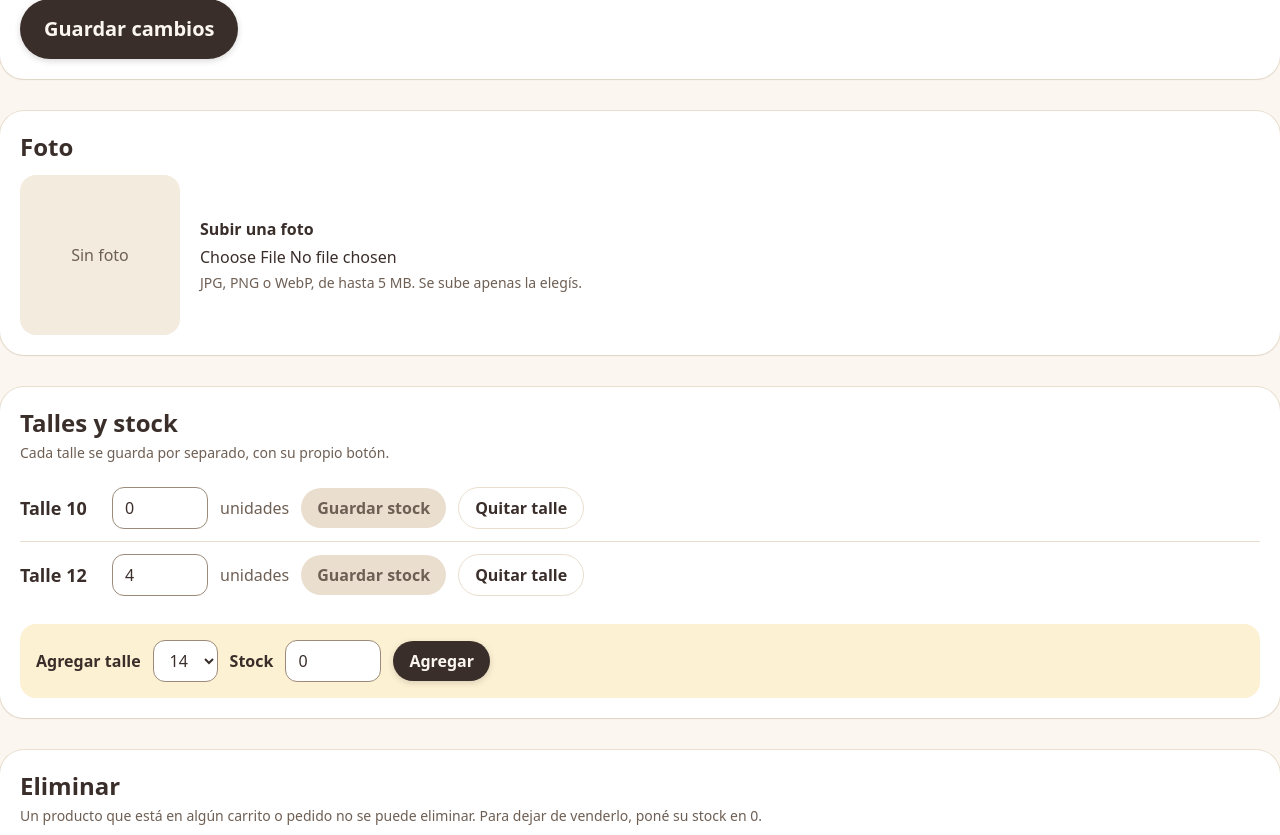
Test case: Editar producto › si hubo una venta mientras se editaba, avisa y muestra el stock real
(page scrolled)
Step 1. Clear the field labelled "Talle 12" → (160, 575), box [112,554,208,596]
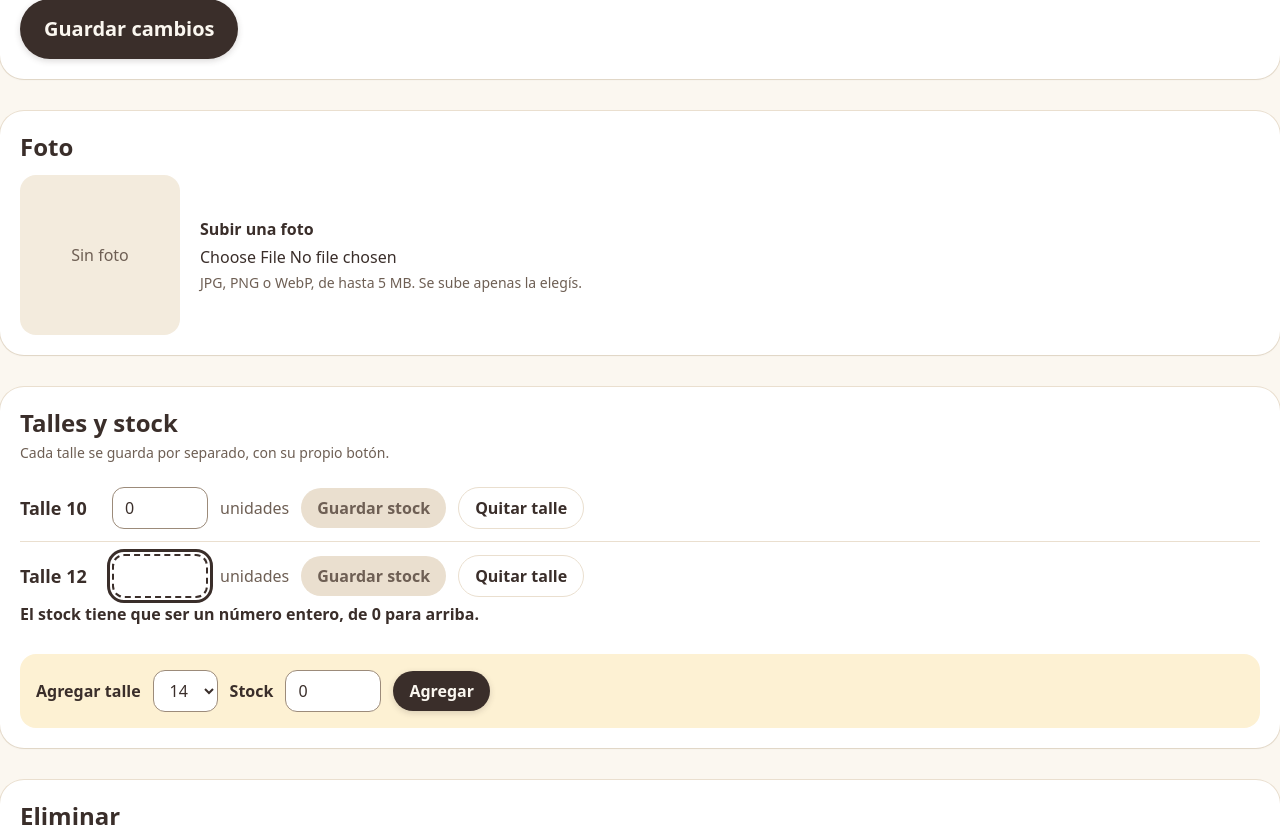
Step 2. Type "9" into the field labelled "Talle 12" → (160, 576), box [112,554,208,598]
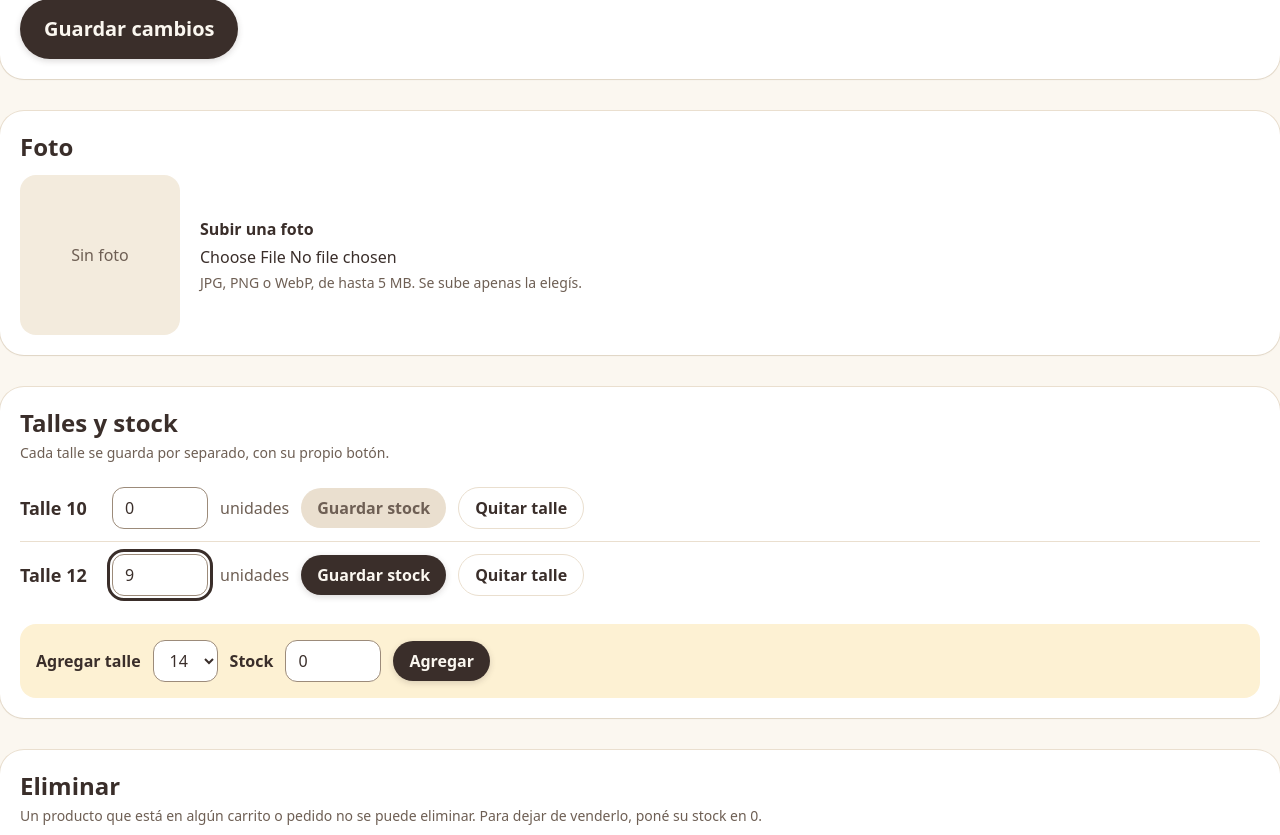
Step 3. Click the button "Guardar stock" in the row of "12" → (374, 575), box [301,555,446,595]
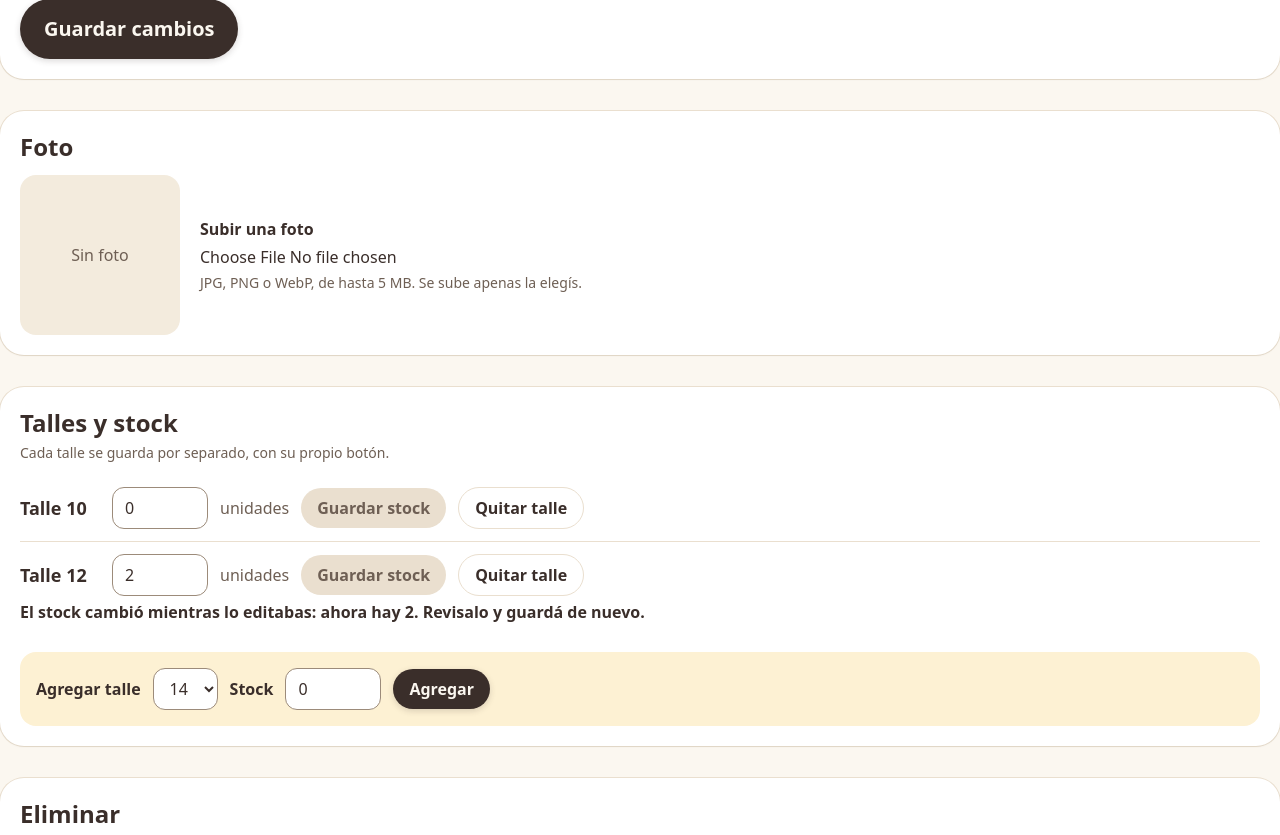
Expected: the message reads "El stock cambió mientras lo editabas: ahora hay 2. Revisalo y guardá de nuevo.", [20,601,645,623]
Expected: the field labelled "Talle 12" holds "2", [112,554,208,596]
